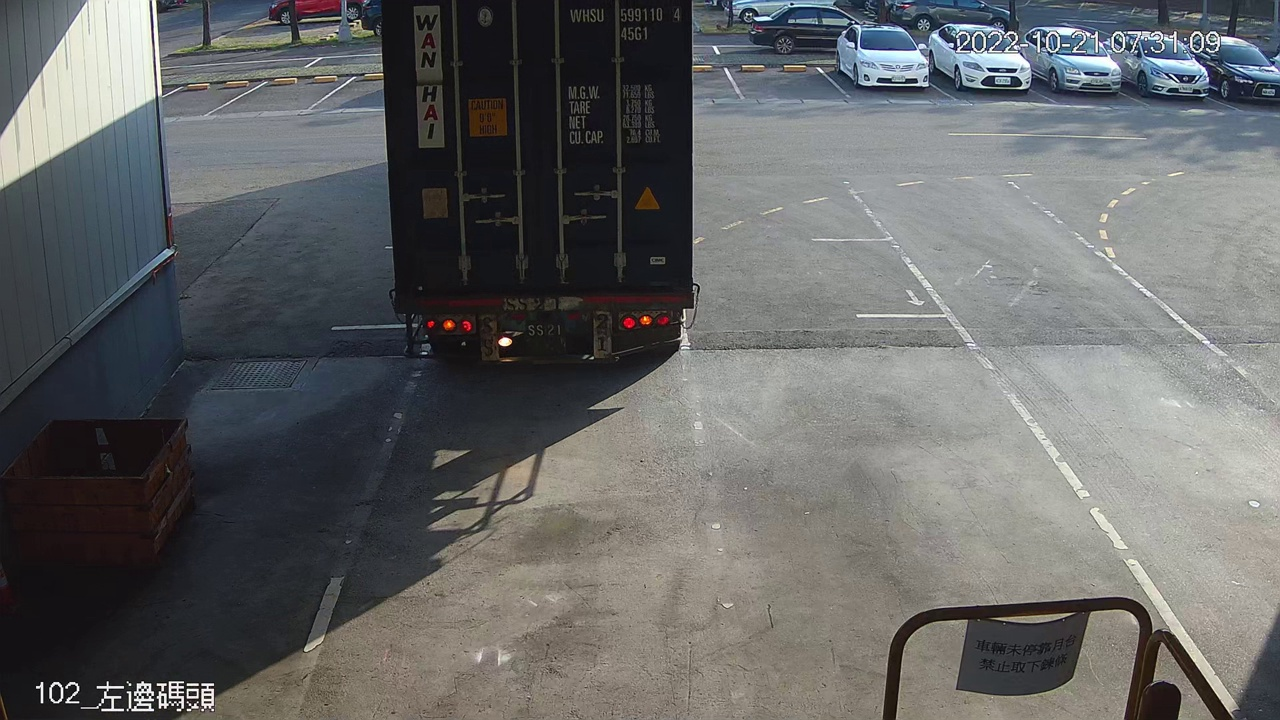container: (564, 4, 685, 45)
